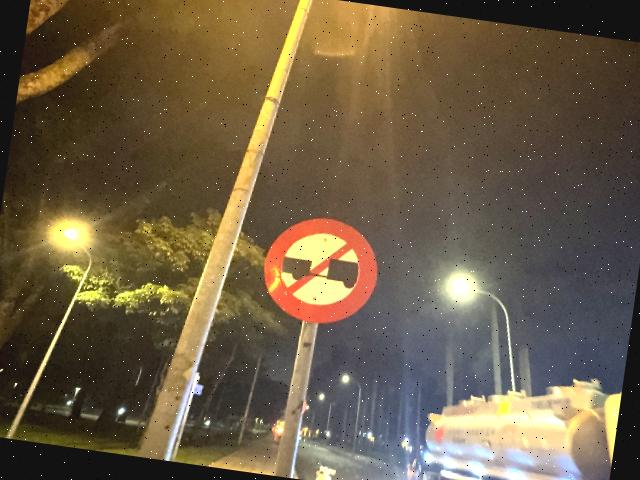cam-xe-somi-romooc: (258, 210, 386, 332)
